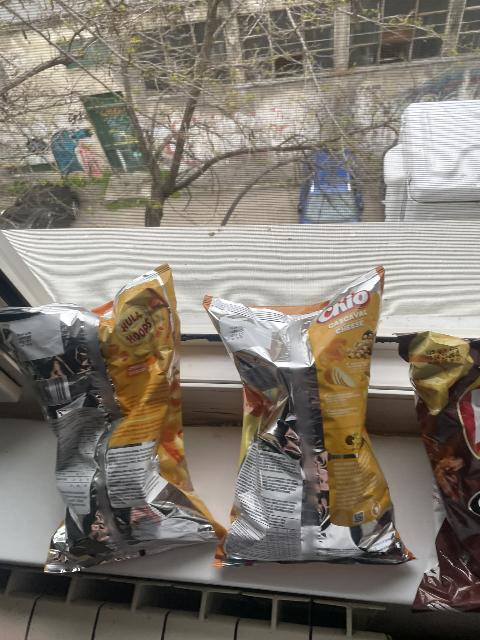Chio Cascaval 125g: (207, 265, 417, 567)
Chio Hula Hoops Cheese 70g: (3, 261, 230, 572)
Lays Beef Grilled Ribs 125g: (391, 324, 480, 614)
